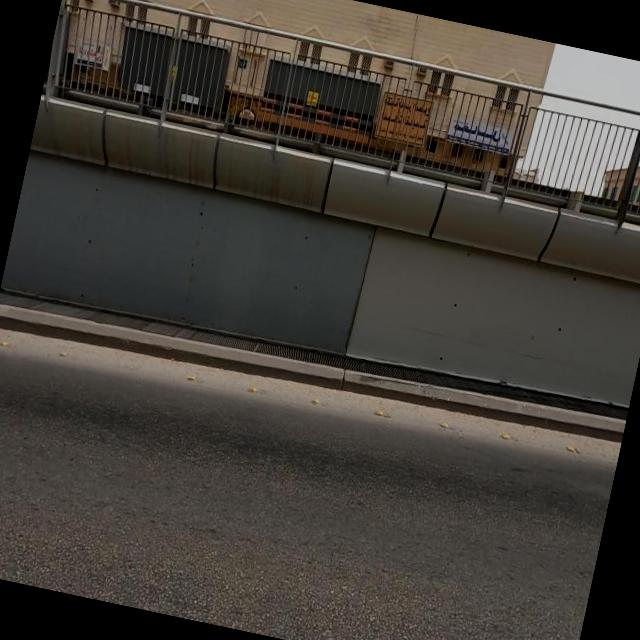debris: (220, 0, 453, 181), (75, 0, 280, 165)
